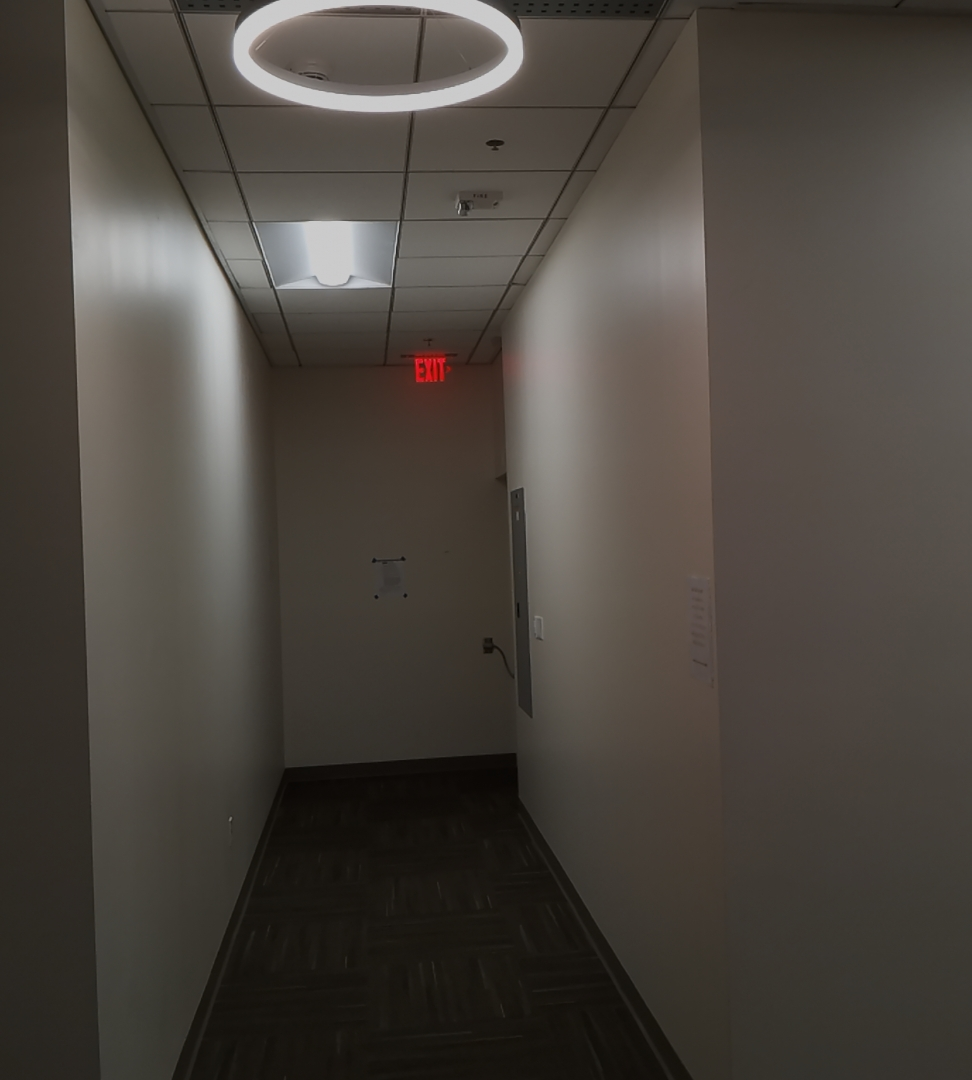emergency_exit: (411, 351, 450, 385)
